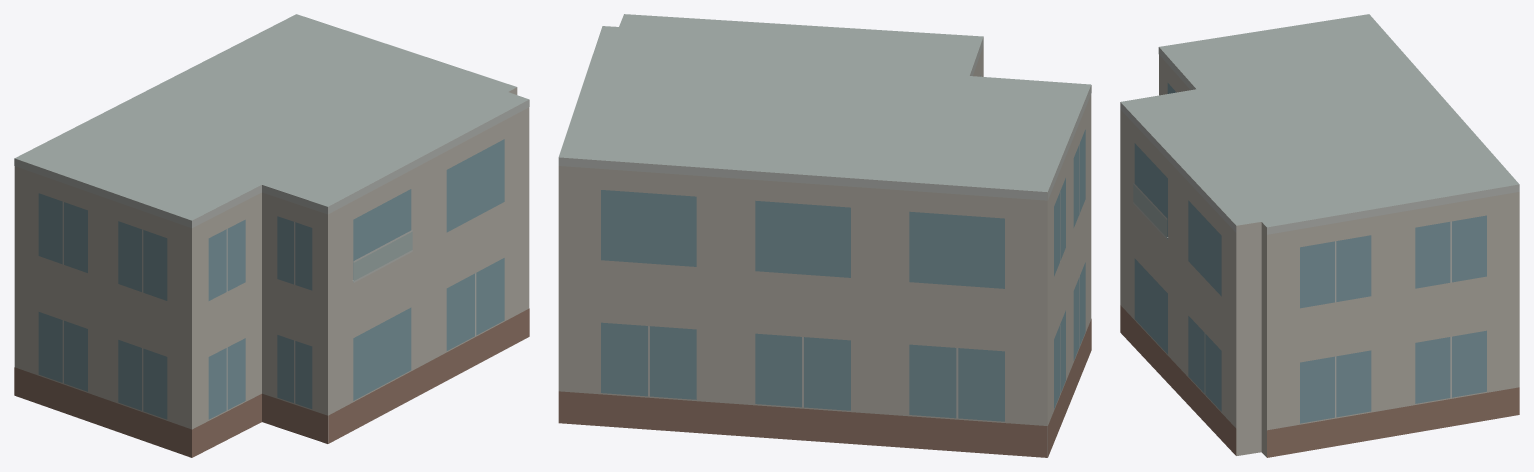
The model's file is survey-upis-32500362.glb.
3 views of the same model, side by side, from view 1: azimuth 30°, elevation 25°; view 2: azimuth 150°, elevation 25°; view 3: azimuth 270°, elevation 25° (orthographic). The views are drawn at different scales.
Parts seen in each view (by area): view 1: survey-upis-32500362.tmp; view 2: survey-upis-32500362.tmp; view 3: survey-upis-32500362.tmp.
Part boxes in pixels (<box>): survey-upis-32500362.tmp: <box>14,14,529,457</box>; survey-upis-32500362.tmp: <box>558,14,1091,457</box>; survey-upis-32500362.tmp: <box>1120,14,1519,457</box>.
Bounding box in the file's own units: 15.11 × 7.6 × 11.95.
